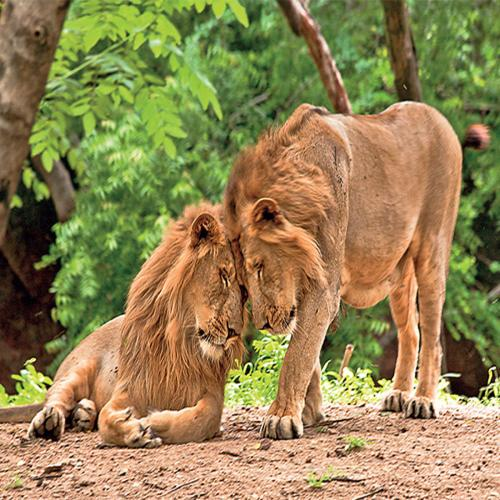lion-endangered: (222, 99, 460, 436), (28, 197, 247, 447)
